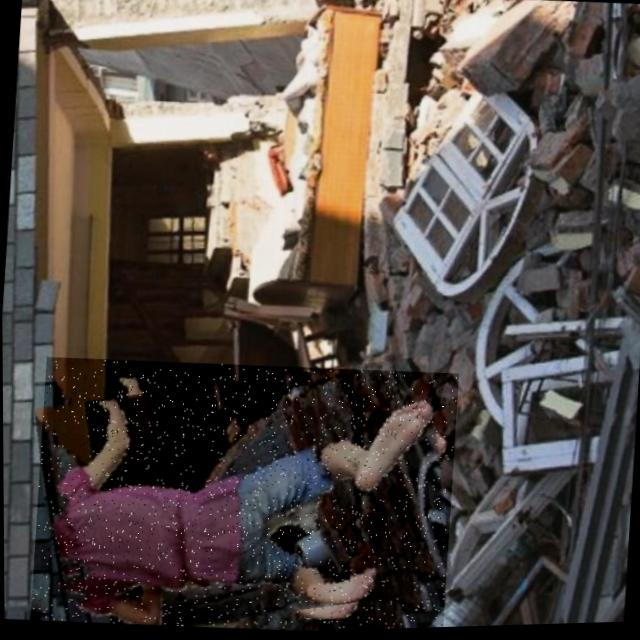Person in Rubble: (27, 346, 459, 639)
